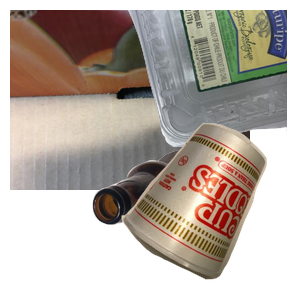cardboard: (10, 10, 250, 190)
glass: (90, 148, 300, 300)
plastic: (60, 10, 300, 149)
trash: (119, 121, 300, 300)
